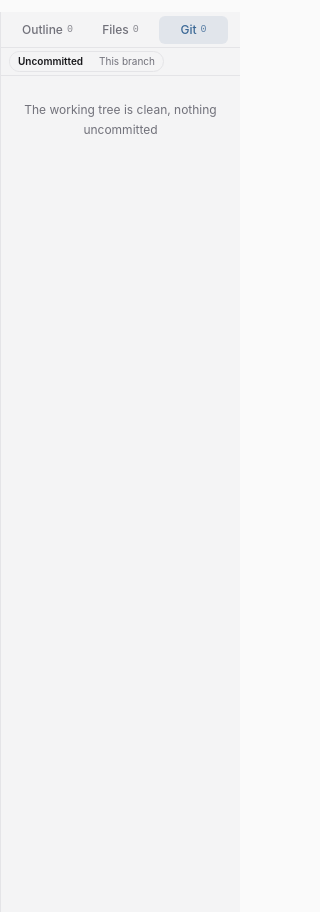
Test case: Git tab · 本分支档与基线 › shows the no-baseline empty state with a pick-a-baseline button
Click the tab "This branch". click: (127, 62)
box: [91,52,163,71]
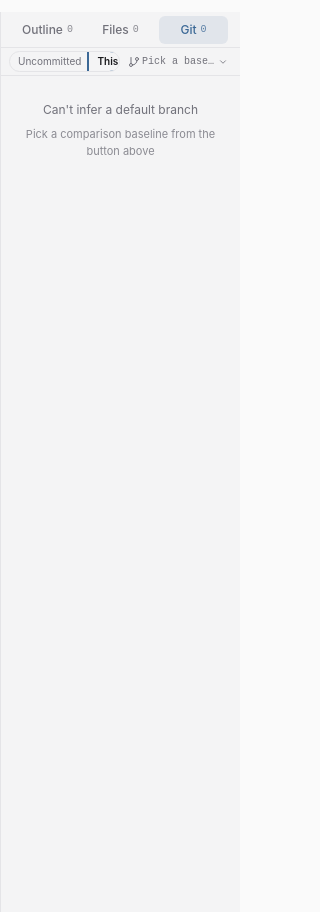
Expected: the text "Can't infer a default branch" is shown, [43,102,198,117]
Expected: the button "Pick a baseline" is shown, [124,52,232,71]
